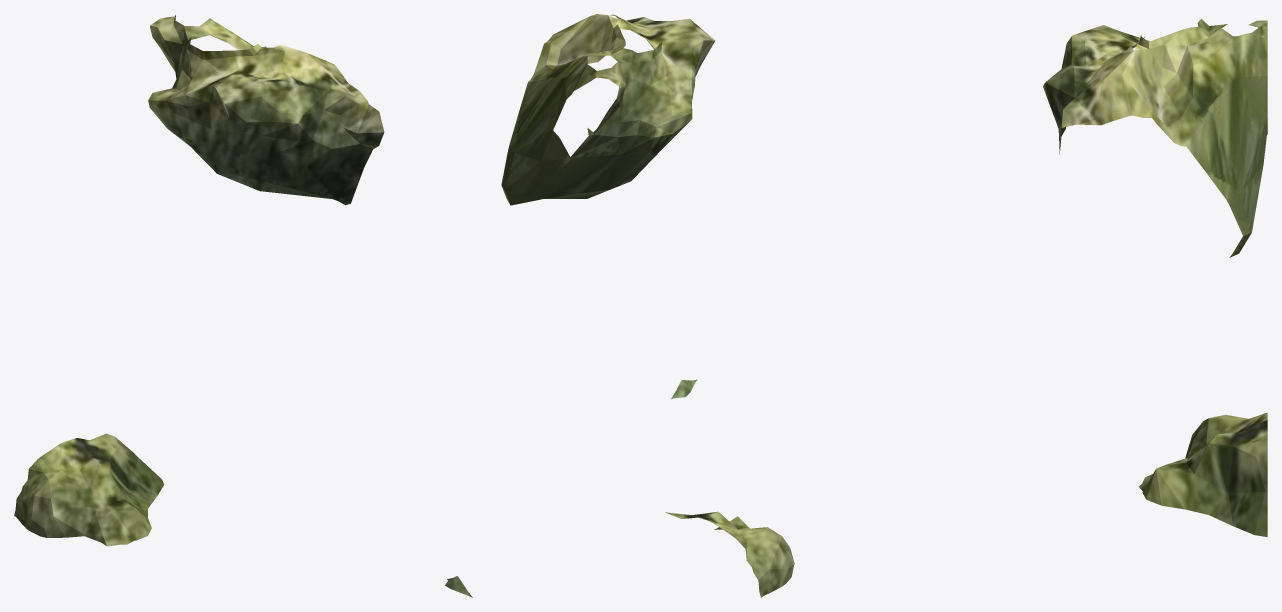
3 views of the same model, side by side, from view 1: azimuth 30°, elevation 25°; view 2: azimuth 150°, elevation 25°; view 3: azimuth 270°, elevation 25° (orthographic). The views are drawn at different scales.
Size of the model in its own units: 3.51 by 5.9 by 4.58.
1 material, 1 textured.
